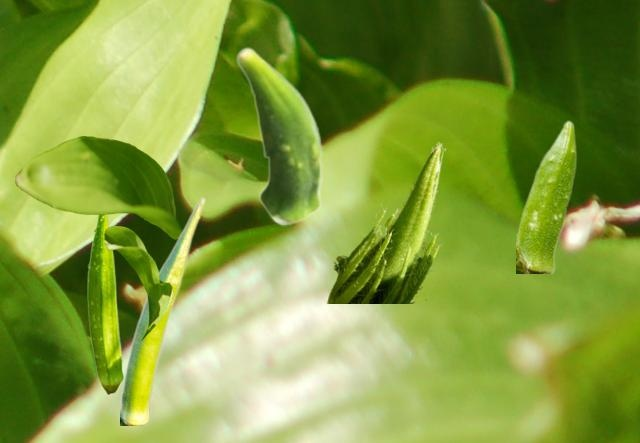okra: (325, 141, 445, 302), (120, 196, 204, 424), (235, 46, 323, 225), (516, 119, 576, 272), (87, 215, 123, 394)
